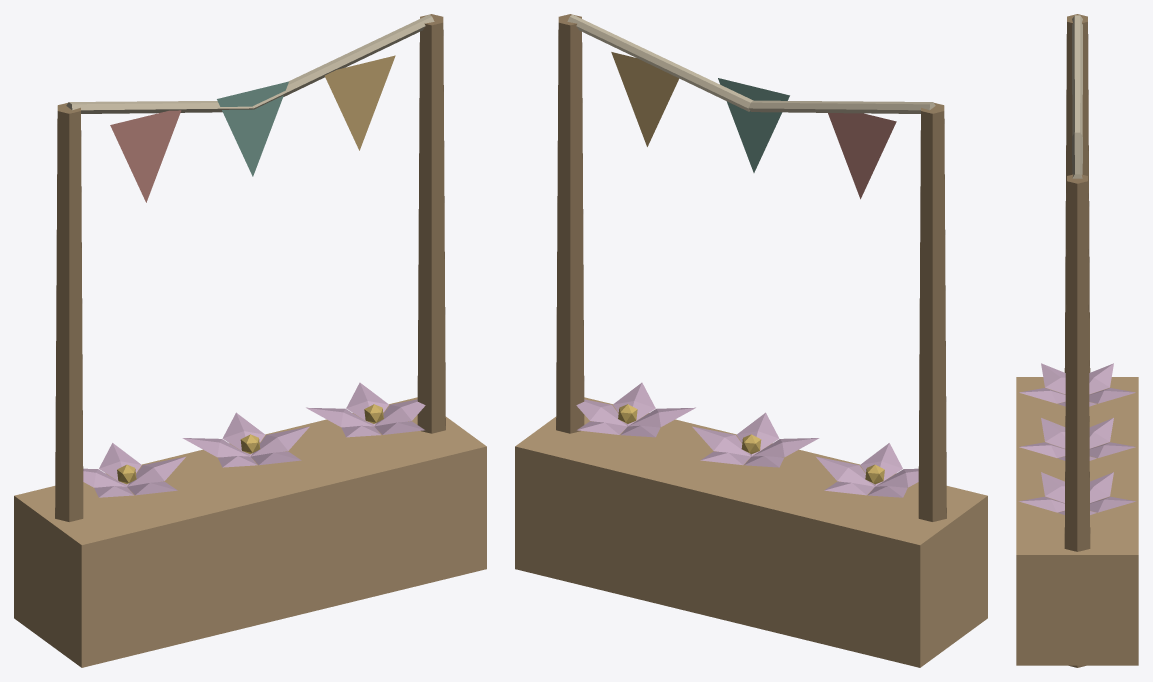
Rendered from map-exclusive-v3__village_05.glb.
3 views of the same model, side by side, from view 1: azimuth 30°, elevation 25°; view 2: azimuth 150°, elevation 25°; view 3: azimuth 270°, elevation 25° (orthographic). The views are drawn at different scales.
Parts seen in each view (by area): view 1: village_05; view 2: village_05; view 3: village_05.
Part boxes in pixels (bbox=[...]): village_05: bbox=[14, 14, 486, 667]; village_05: bbox=[515, 14, 987, 667]; village_05: bbox=[1016, 14, 1138, 667].
Bounding box in the file's own units: 1.9 × 2.42 × 0.55.
